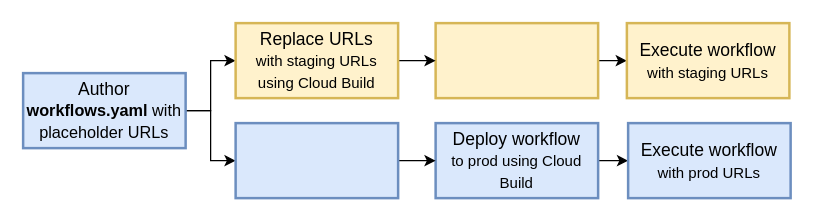
Some shapes in this 813 by 220 pixel diagram are drawn without their labels. Each missing label, with the centre of its shape:
"Deploy workflow to staging using Cloud Build" belongs at point (516, 60).
"Replace URLs with prod URLs using Cloud Build" belongs at point (316, 160).
